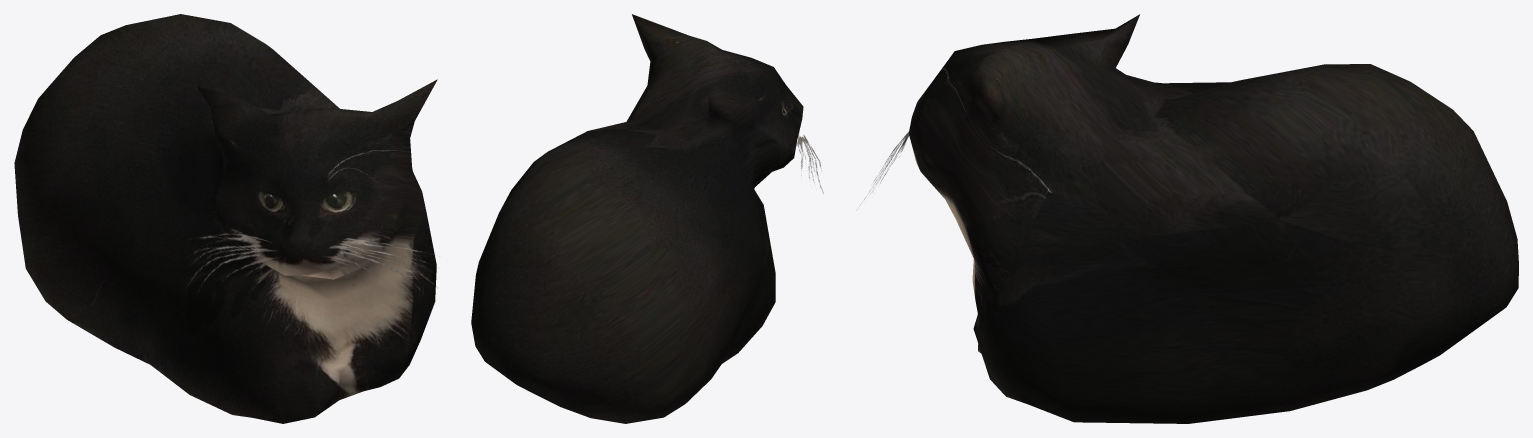
The model's file is Dingus the cat.glb.
3 renders of one model, left to right at view 1: azimuth 30°, elevation 25°; view 2: azimuth 150°, elevation 25°; view 3: azimuth 270°, elevation 25°, orthographic. The views are drawn at different scales.
Parts seen in each view (by area): view 1: Maxwell, whiskers; view 2: Maxwell, whiskers; view 3: Maxwell.
Boxes of the visible parts, bbox=[...] form: Maxwell: bbox=[14, 14, 437, 423]; whiskers: bbox=[186, 229, 436, 291]; Maxwell: bbox=[471, 14, 803, 423]; whiskers: bbox=[796, 132, 823, 193]; Maxwell: bbox=[908, 14, 1518, 423].
Bounding box in the file's own units: 2.06 × 2.45 × 4.23.
Materials: 2 (2 with a texture image).
